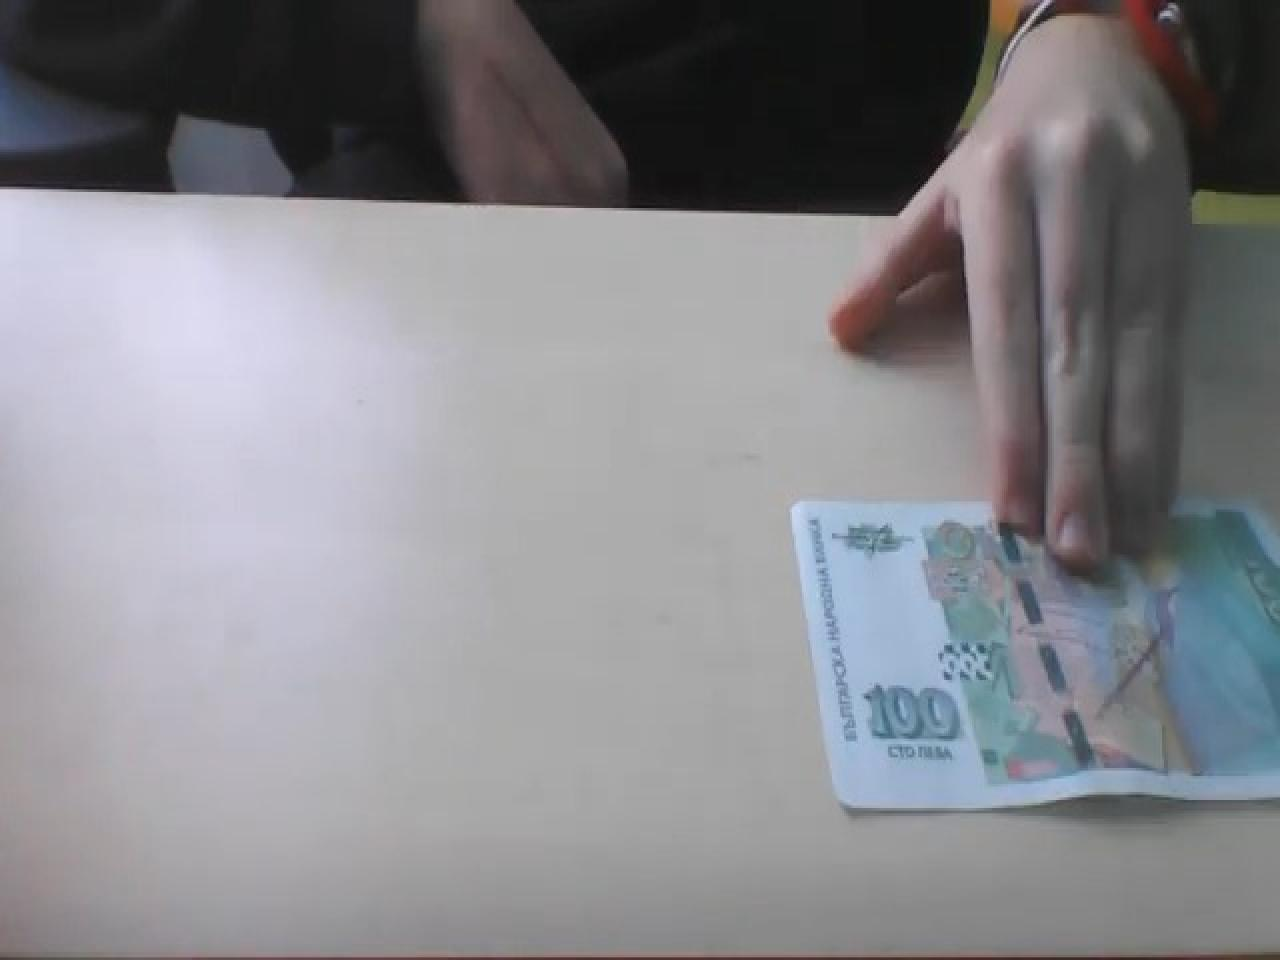100leva: (788, 499, 1280, 819)
